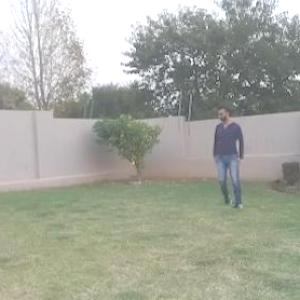follow: (212, 102, 247, 212)
